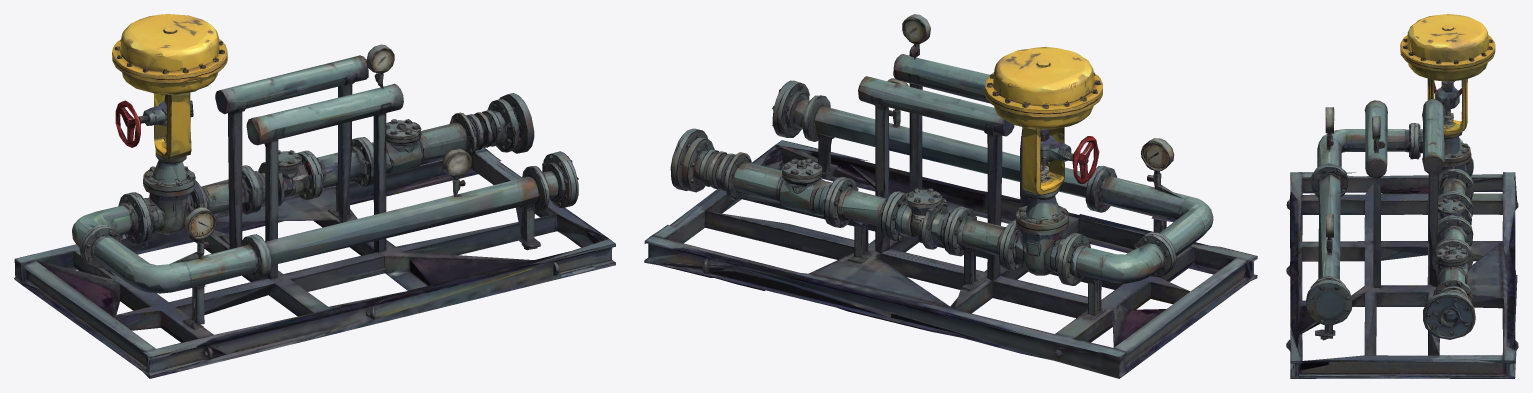
The model's file is gas_lift.glb.
3 renders of one model, left to right at view 1: azimuth 30°, elevation 25°; view 2: azimuth 150°, elevation 25°; view 3: azimuth 270°, elevation 25°, orthographic. The views are drawn at different scales.
Bounding box in the file's own units: 1.9 × 0.9836 × 0.9859.
1 material, 1 textured.
